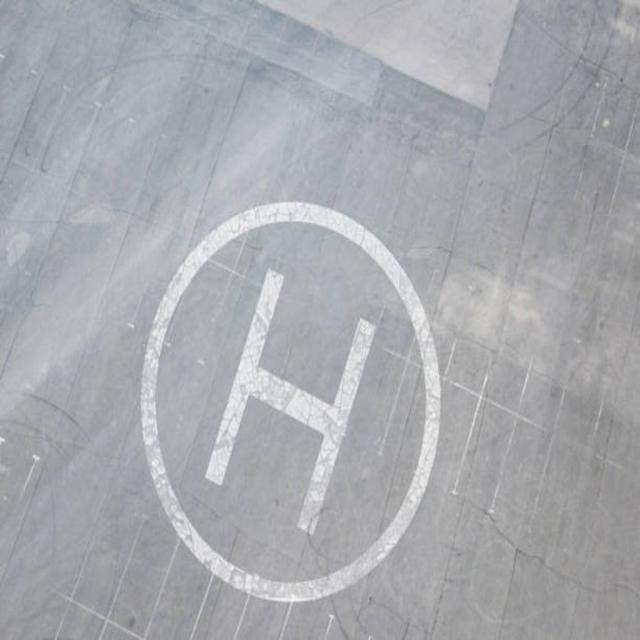helipad: (138, 196, 444, 602)
